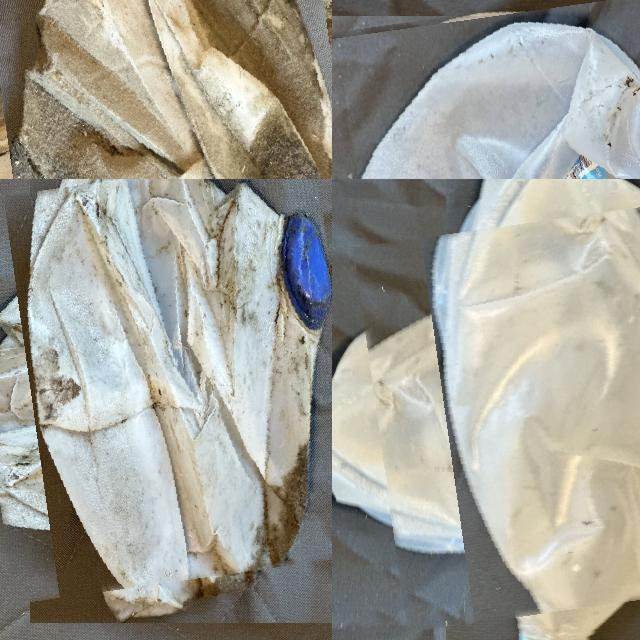milk-jug: (0, 179, 332, 590), (365, 205, 640, 619), (0, 0, 332, 179), (332, 0, 640, 179)
